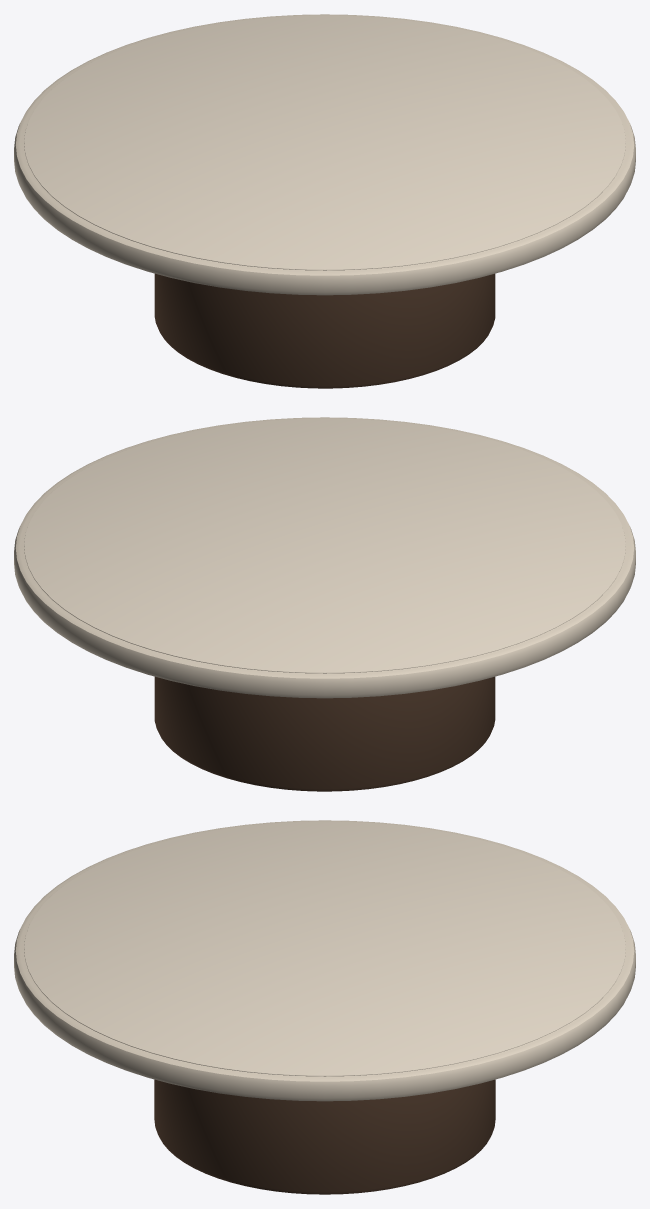
File: tavolino-tondo.glb
The picture shows the model from 3 angles, top to bottom: view 1: azimuth 30°, elevation 25°; view 2: azimuth 150°, elevation 25°; view 3: azimuth 270°, elevation 25°; orthographic projection.
Visible parts, largest first — view 1: tavolino_piano, tavolino_base; view 2: tavolino_piano, tavolino_base; view 3: tavolino_piano, tavolino_base.
Part boxes in pixels (x1,y1,x2,y2): tavolino_piano: (14,14,635,295); tavolino_base: (154,273,495,388); tavolino_piano: (14,417,635,698); tavolino_base: (154,676,495,791); tavolino_piano: (14,820,635,1101); tavolino_base: (154,1079,495,1194).
Size of the model in its own units: 1.24 by 0.389 by 1.24.
